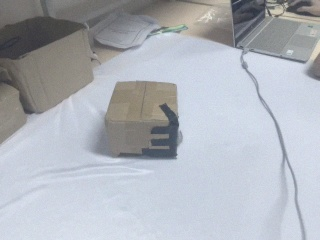box: (1, 17, 93, 113), (106, 81, 180, 159)
